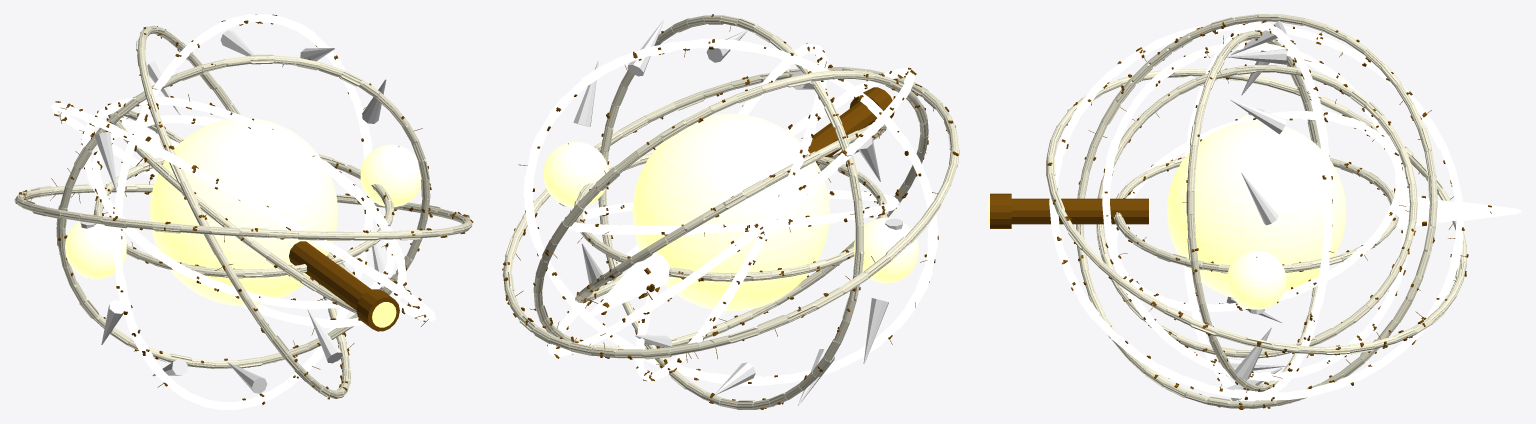
The model's file is quorai_huge.glb.
The picture shows the model from 3 angles, left to right: view 1: azimuth 30°, elevation 25°; view 2: azimuth 150°, elevation 25°; view 3: azimuth 270°, elevation 25°; orthographic projection. The views are drawn at different scales.
Parts seen in each view (by area): view 1: quorai_huge; view 2: quorai_huge; view 3: quorai_huge.
Part boxes in pixels (left/top/right/bottom): quorai_huge: left=14, top=14, right=473, bottom=409; quorai_huge: left=502, top=14, right=959, bottom=409; quorai_huge: left=988, top=14, right=1521, bottom=409.
Size of the model in its own units: 8.01 by 7.05 by 10.
